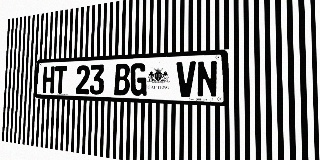2: (76, 65, 90, 94)
3: (89, 64, 104, 95)
B: (114, 63, 130, 95)
G: (130, 63, 147, 96)
H: (42, 66, 55, 93)
N: (197, 60, 218, 98)
T: (54, 66, 67, 94)
V: (176, 61, 196, 97)
